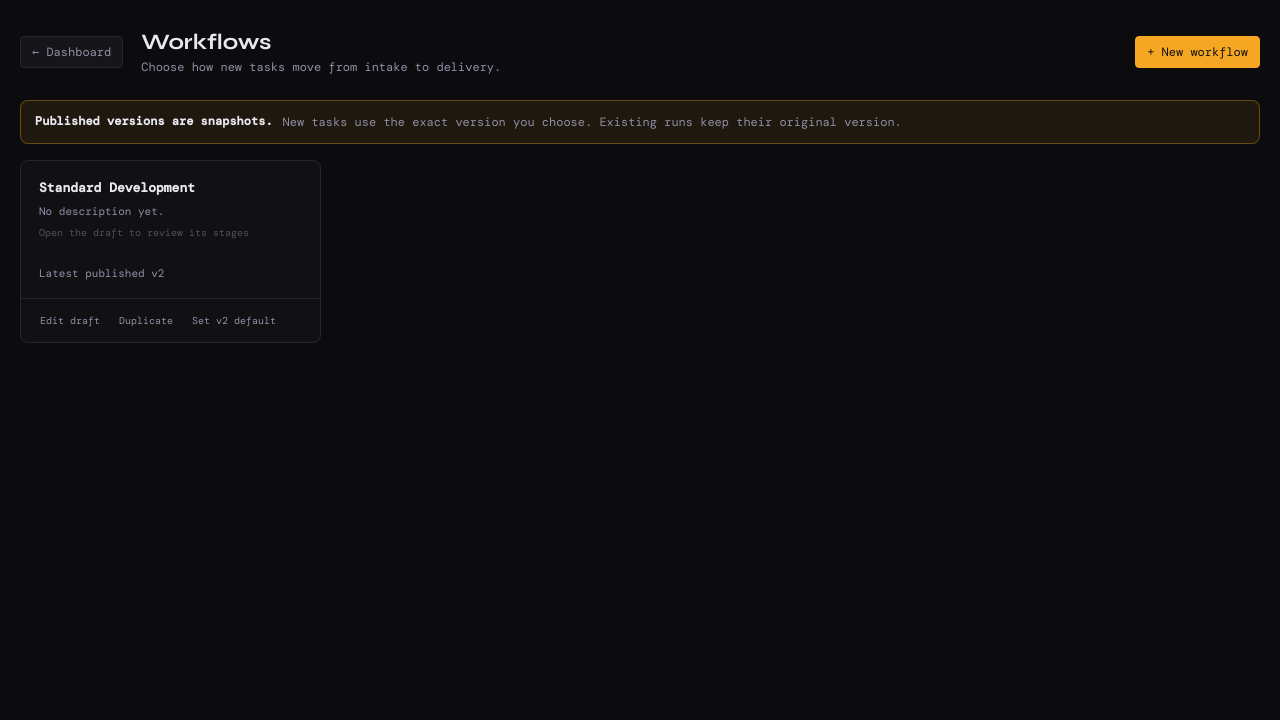
Test: WorkflowStudio › navigates from validation findings to the affected Step and keeps warnings non-blocking
Click the text "Standard Development" at (117, 188), box [39,179,195,196]
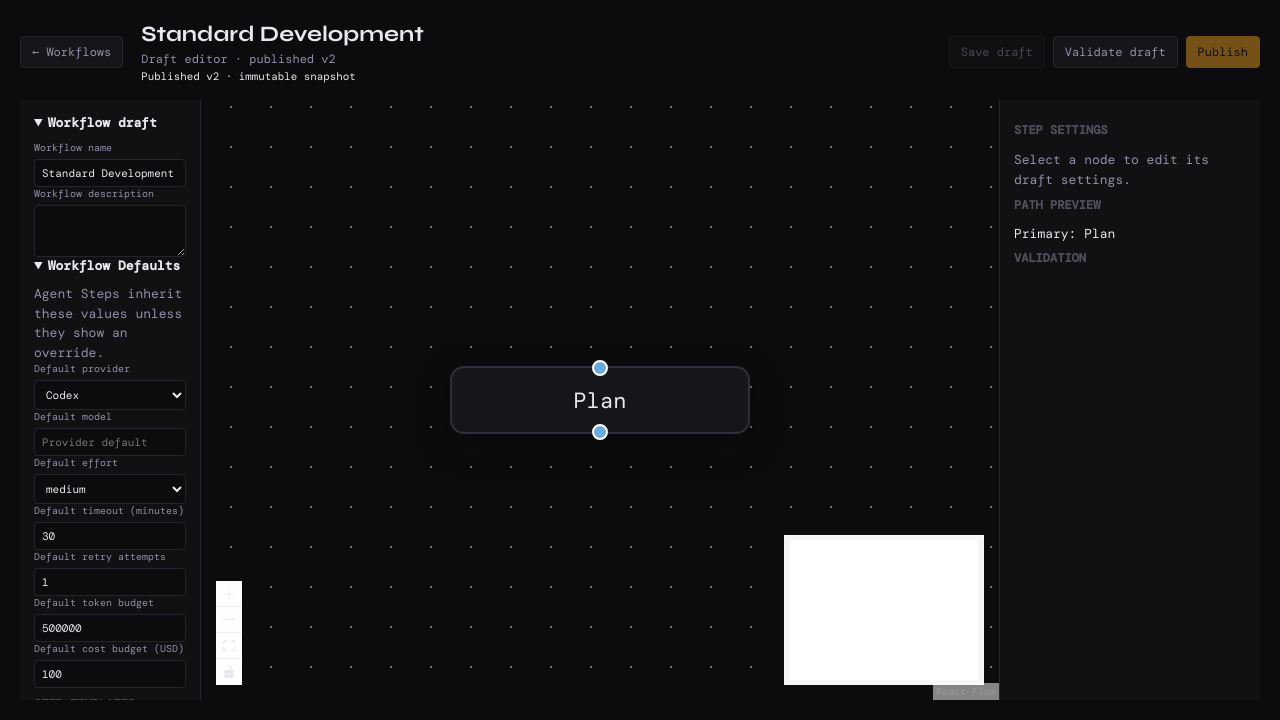
Click the button "Validate draft" at (1115, 52), box [1053,36,1178,68]
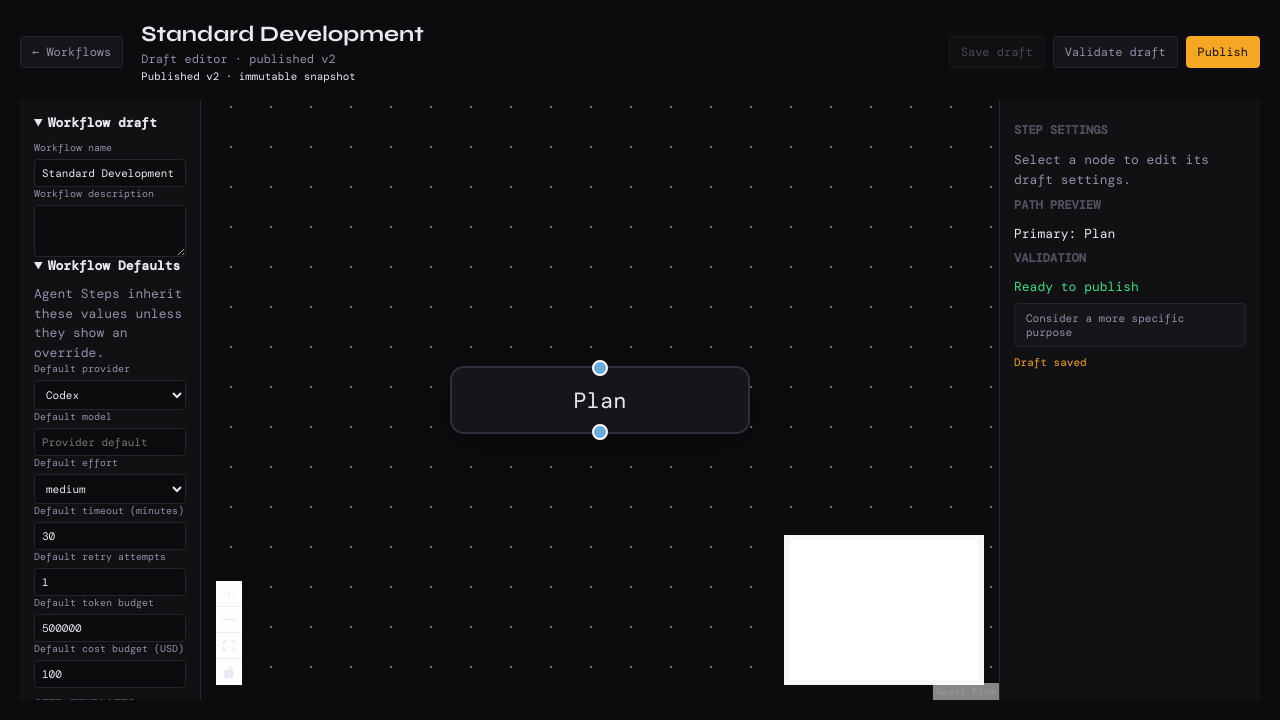
Expected: the button "Publish" is enabled, [1186,36,1260,68]
Click the button "Consider a more specific purpose" at (1130, 325), box [1014,303,1246,347]
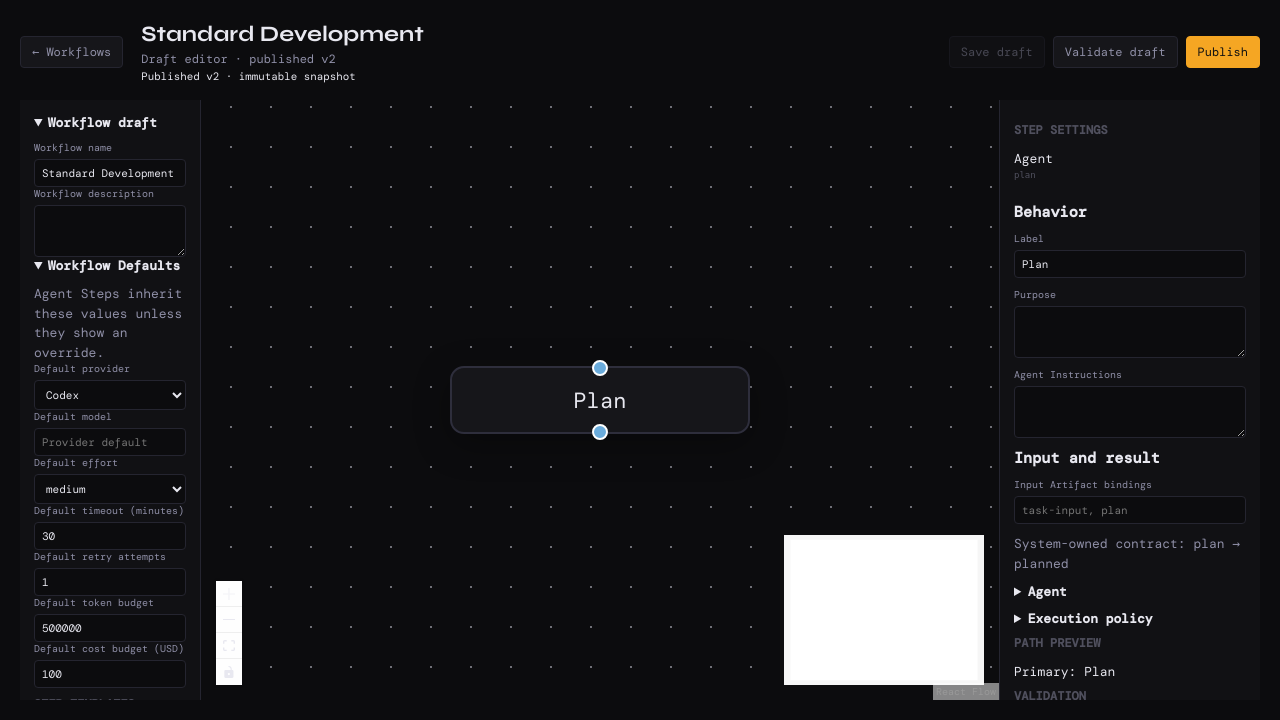
Expected: the text box labelled "Agent Instructions" is shown, [1014,386,1246,438]
